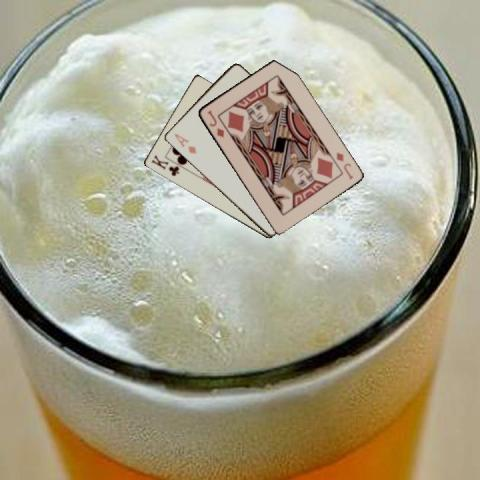Ad: (171, 130, 197, 155)
Jd: (332, 149, 354, 181), (204, 107, 225, 139)
Kc: (148, 152, 181, 177)
